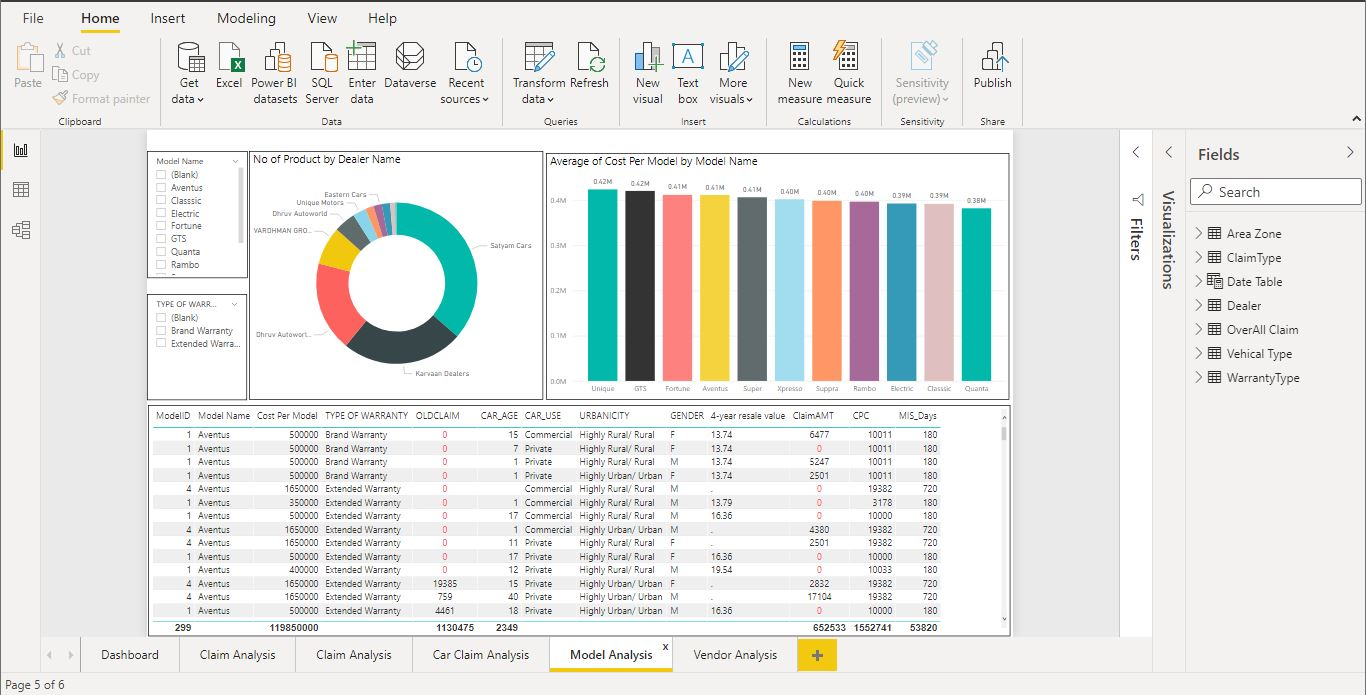

This screenshot's page, from the dashboard's own definition file:
{"tool":"powerbi","page":{"name":"Model Analysis","canvas":[1280,720],"ordinal":4},"visuals":[{"type":"columnChart","fields":{"Category":["WarrantyType.Model Name"],"Y":["Avg(WarrantyType.Cost Per Model)"]},"box":[590.5,3.8,684.5,364.8],"z":0},{"type":"tableEx","fields":{"Values":["CountNonNull(WarrantyType.ModelID)","WarrantyType.Model Name","Sum(WarrantyType.Cost Per Model)","WarrantyType.TYPE OF WARRANTY","Sum(Vehical Type.OLDCLAIM)","Sum(Vehical Type.CAR_AGE)","Vehical Type.CAR_USE","Vehical Type.URBANICITY","Vehical Type.GENDER","Dealer.4-year resale value","Sum(Vehical Type.ClaimAMT)","Sum(WarrantyType.CPC)"]},"box":[1.3,377.4,1275,342.3],"z":1000},{"type":"donutChart","title":"No of Product by Dealer Name","fields":{"Category":["Dealer.Dealer Name"],"Y":["CountNonNull(Dealer.ProductID)"]},"box":[151.2,1.7,435.1,367.9],"z":2000},{"type":"slicer","fields":{"Values":["OverAll Claim.Model Name"]},"box":[0,1.3,149.2,188.1],"z":3000},{"type":"slicer","fields":{"Values":["WarrantyType.TYPE OF WARRANTY"]},"box":[0,213.1,147.9,156.7],"z":4000}]}

Visuals, with their boxes on the page's 1280x720 design canvas (x1, y1, x2, y2). These are canvas units, not pixel positions in the 1366x695 screenshot, which may show the page scaled, cropped or inside an application window:
columnChart - WarrantyType.Model Name x Avg(WarrantyType.Cost Per Model): pyautogui.locateOnScreen(590, 4, 1275, 369)
tableEx - CountNonNull(WarrantyType.ModelID) x WarrantyType.Model Name: pyautogui.locateOnScreen(1, 377, 1276, 720)
"No of Product by Dealer Name" donutChart: pyautogui.locateOnScreen(151, 2, 586, 370)
slicer - OverAll Claim.Model Name: pyautogui.locateOnScreen(0, 1, 149, 189)
slicer - WarrantyType.TYPE OF WARRANTY: pyautogui.locateOnScreen(0, 213, 148, 370)
